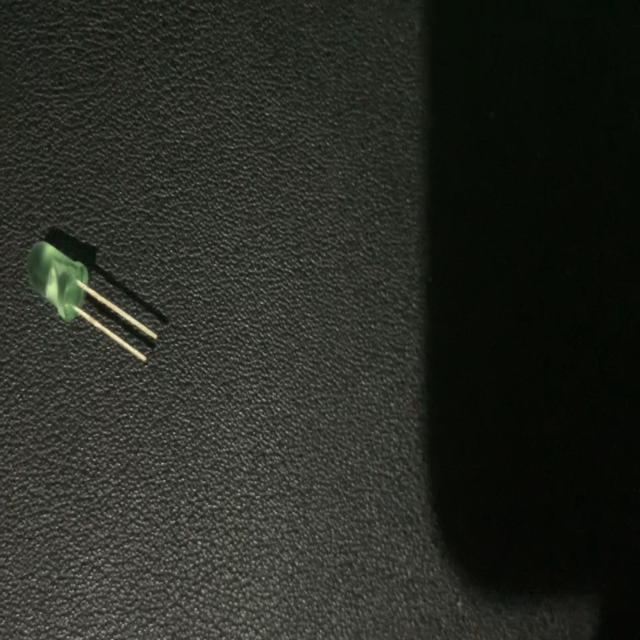LED: (23, 235, 158, 366)
